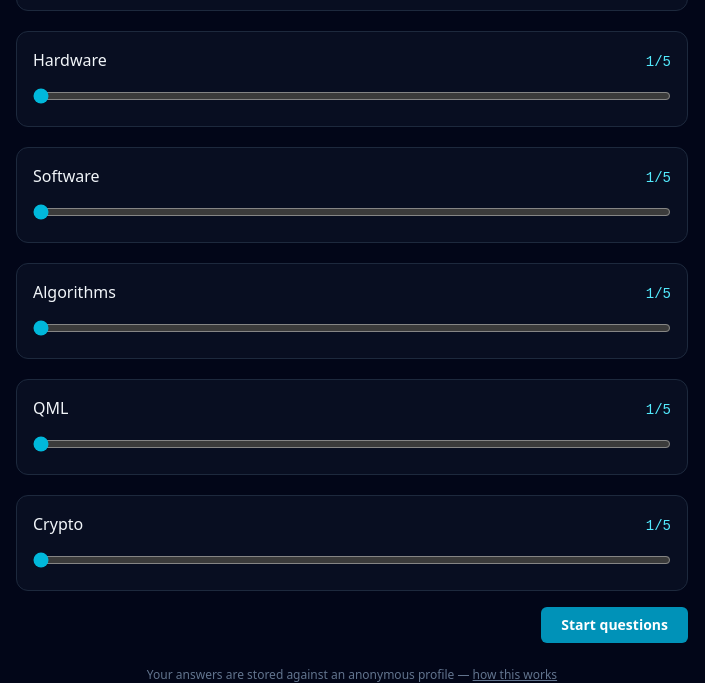
Test: DiagnosticPage › warns on the review step with the accurate unanswered wording
(page scrolled)
Click the button "Start questions".
click(615, 625)  # box [541,607,688,643]
(page scrolled)
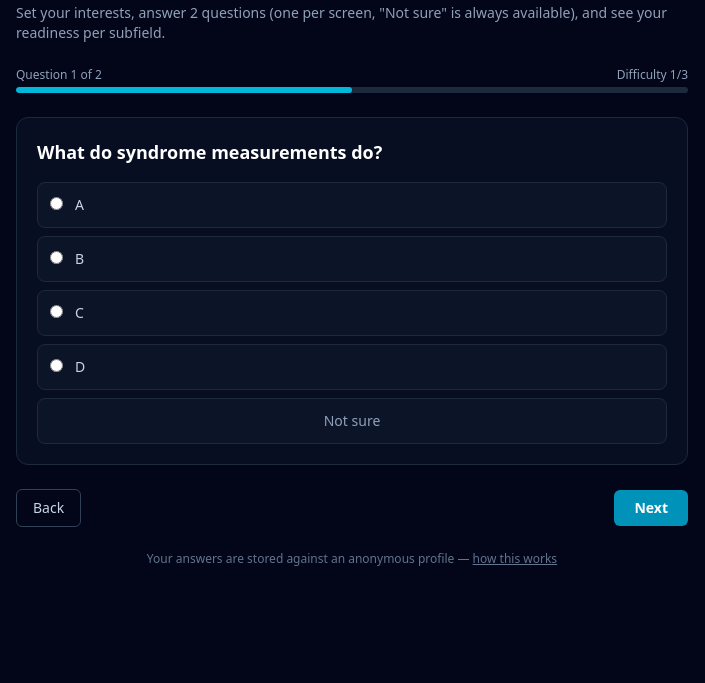
Click the button "Next".
click(651, 508)  # box [614,490,688,526]
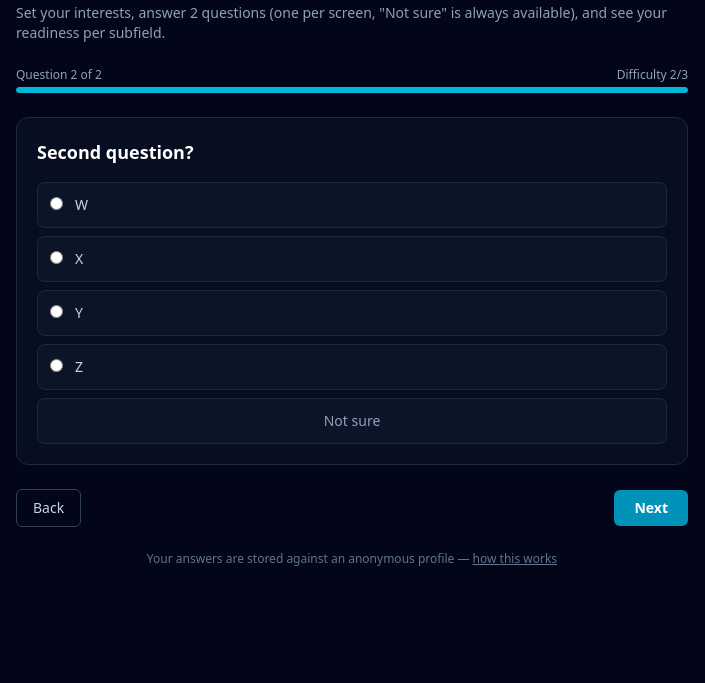
Click the button "Next".
click(651, 508)  # box [614,490,688,526]
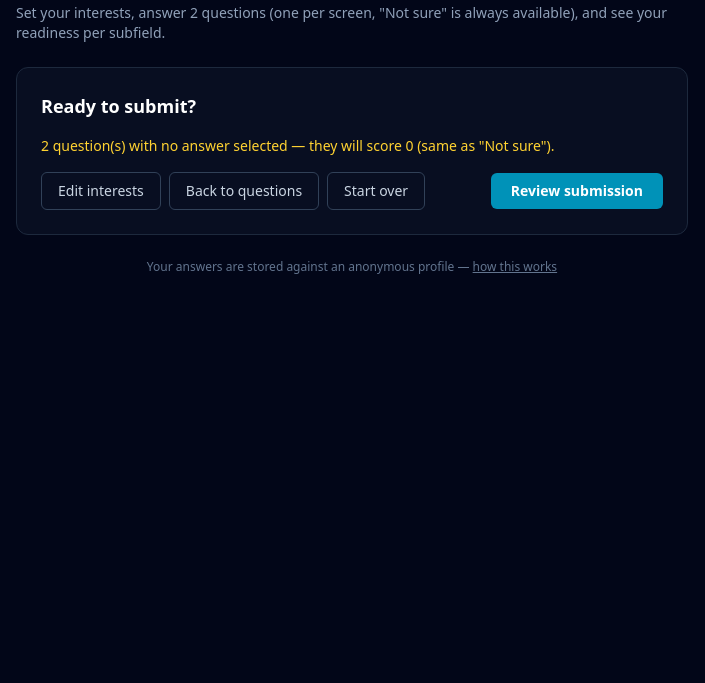
Now the text "2 question(s) with no answer selected" is shown, box [41,136,288,155]
